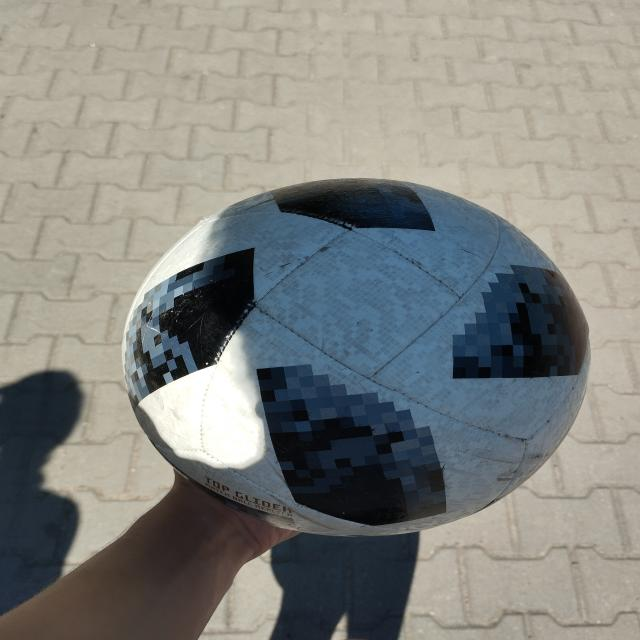nozna: (121, 178, 592, 537)
